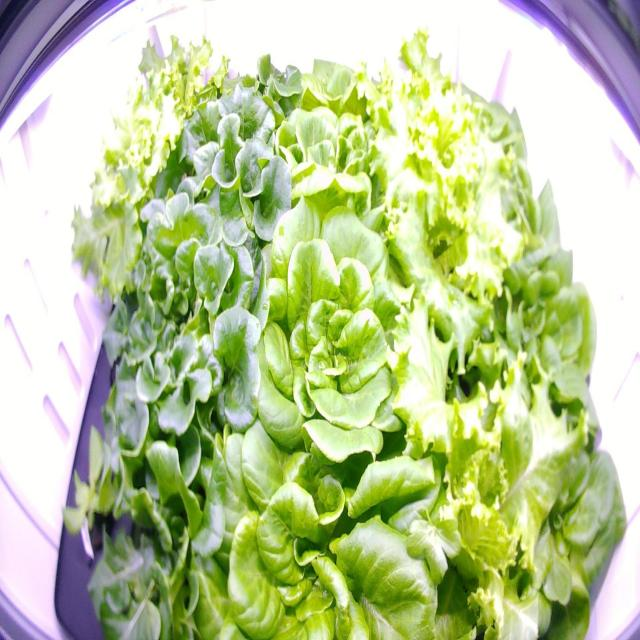Ready: (179, 359, 488, 639), (224, 176, 446, 476), (475, 389, 631, 640), (444, 222, 604, 462), (242, 101, 401, 246), (448, 159, 579, 313), (419, 61, 538, 206), (269, 42, 389, 174)
pod: (51, 412, 132, 574)
